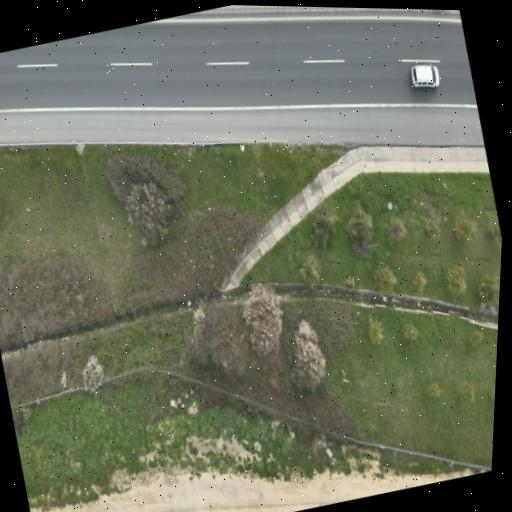car: (411, 65, 439, 88)
